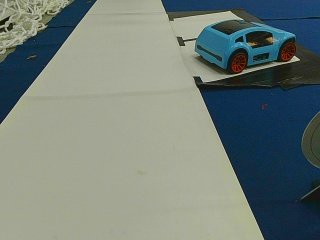car: (194, 19, 296, 72)
